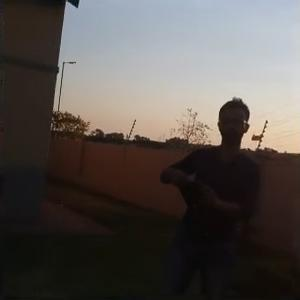follow: (148, 90, 260, 299)
